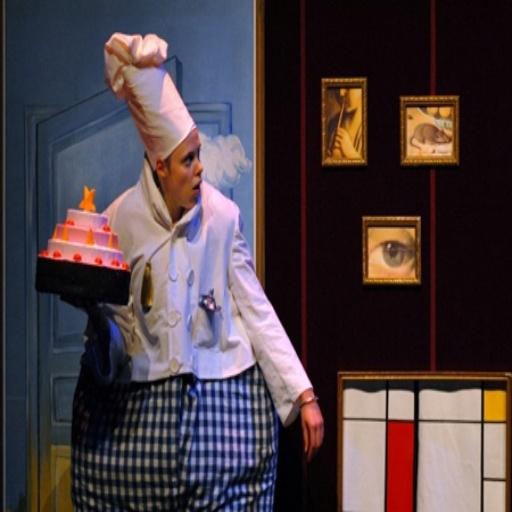hand: (301, 389, 323, 455), (56, 296, 96, 317), (333, 122, 352, 158), (326, 133, 336, 162)
